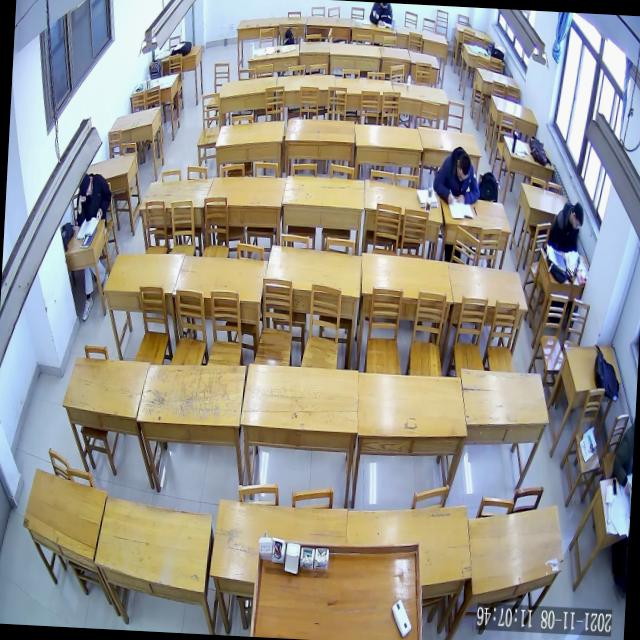down: (454, 154, 472, 186), (570, 201, 586, 234), (77, 172, 93, 198)
sit: (431, 144, 482, 208), (73, 168, 114, 232), (546, 198, 586, 255)
